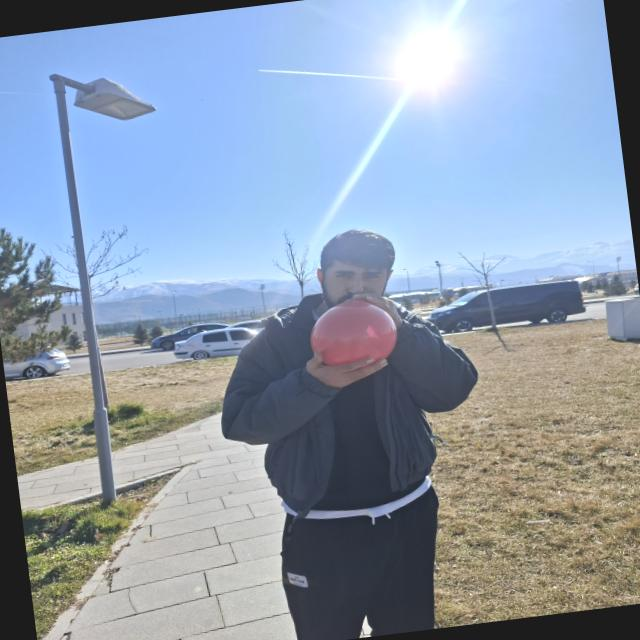balloon: (310, 300, 397, 365)
